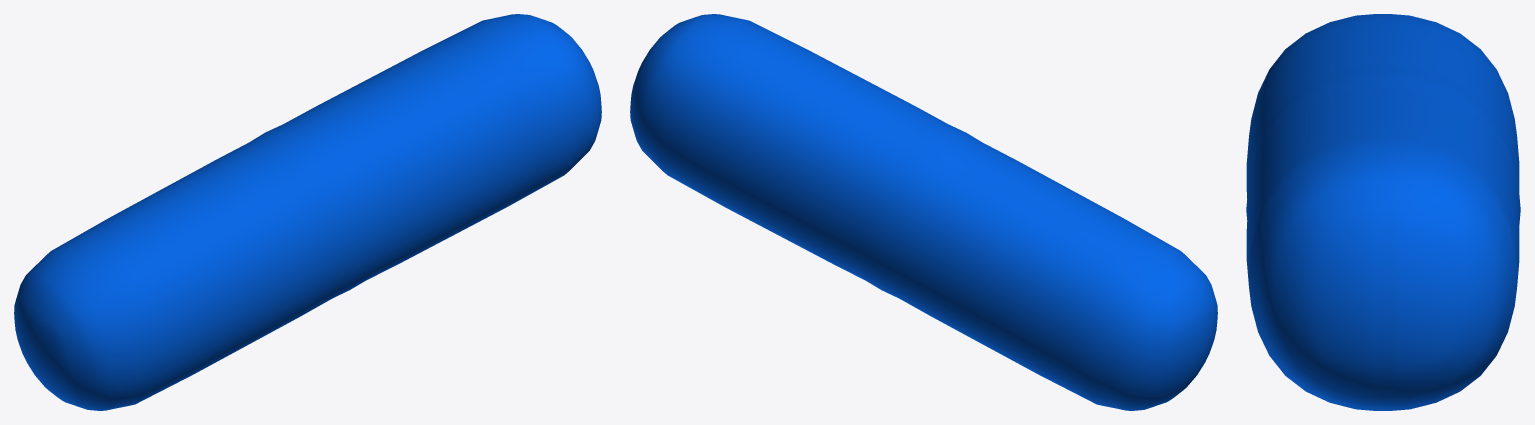
3 renders of one model, left to right at view 1: azimuth 30°, elevation 25°; view 2: azimuth 150°, elevation 25°; view 3: azimuth 270°, elevation 25°, orthographic. The views are drawn at different scales.
Visible parts, largest first — view 1: lv_3_4; view 2: lv_3_4; view 3: lv_3_4.
Boxes of the visible parts, box(x1,y1,x2,y2) form: lv_3_4: box(14, 14, 601, 410); lv_3_4: box(630, 14, 1217, 410); lv_3_4: box(1246, 14, 1520, 410).
Size of the model in its own units: 42.86 by 20.03 by 11.61.
